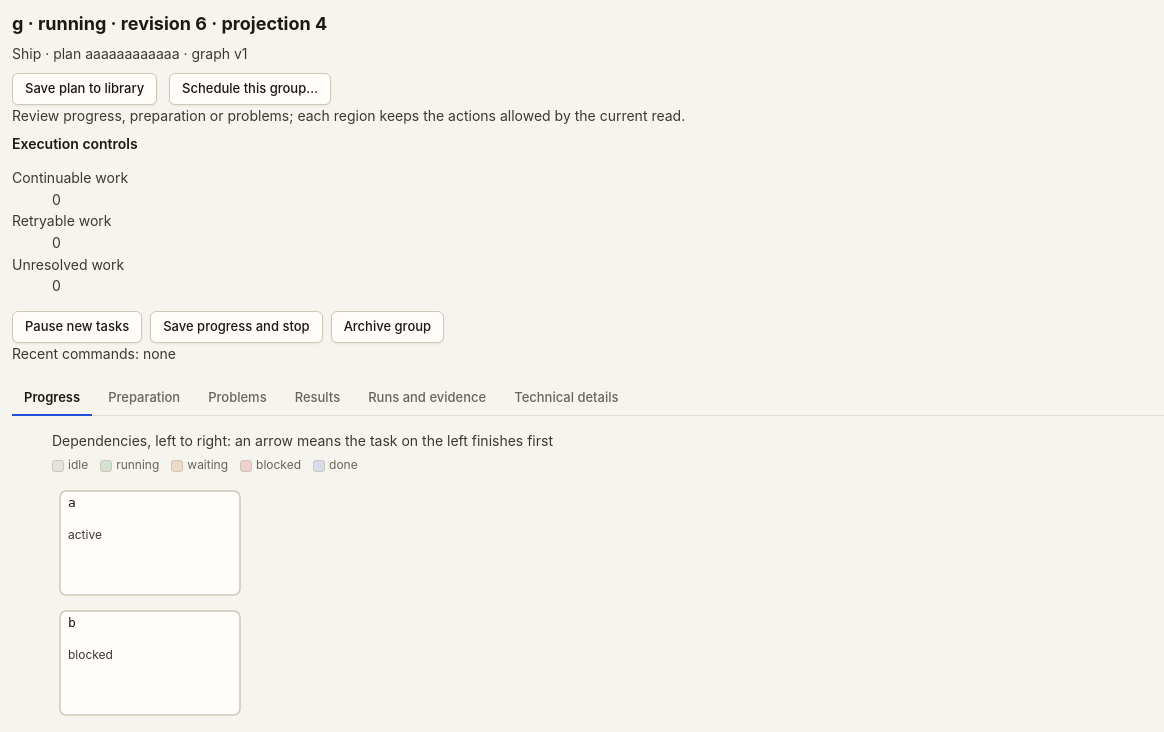
Test case: active and failed task facts remain visible together without inferring success
Expected: the panel shows "active", x1=68 y1=527 x2=102 y2=542
Expected: the panel shows "blocked", x1=256 y1=457 x2=301 y2=472
Click the tab "Problems": (237, 399) x1=196 y1=381 x2=279 y2=416
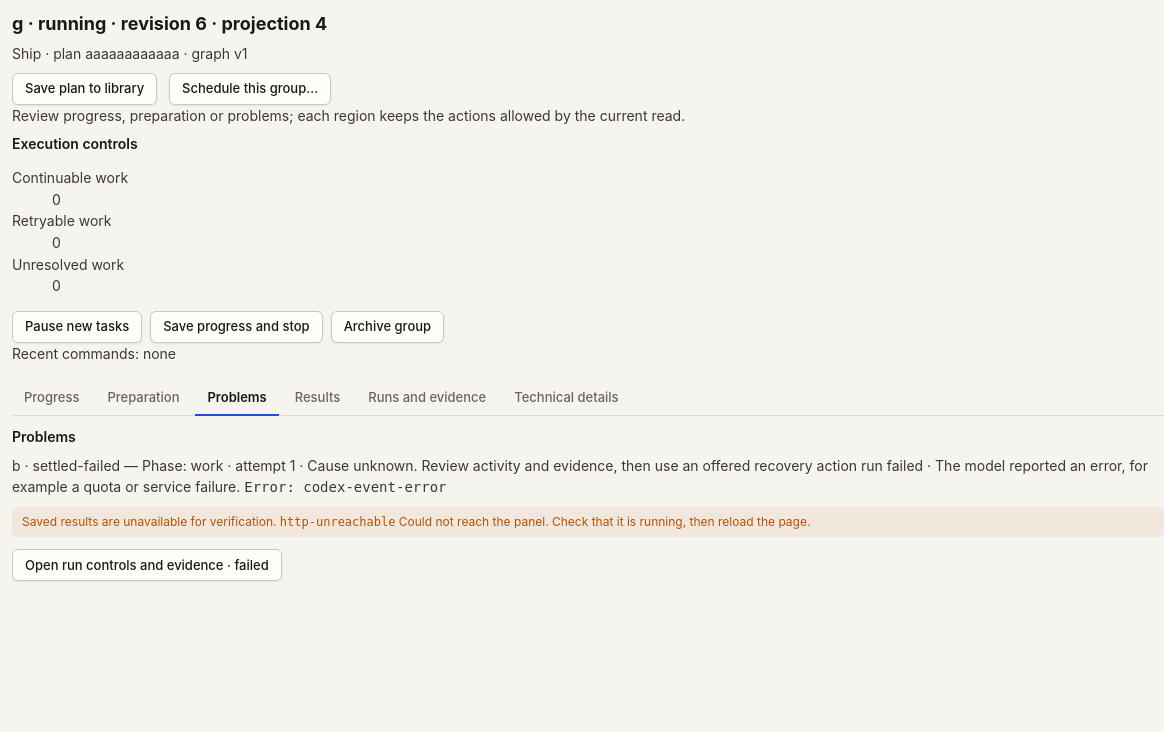
Now the panel shows "settled-failed", box x1=32 y1=456 x2=120 y2=474
